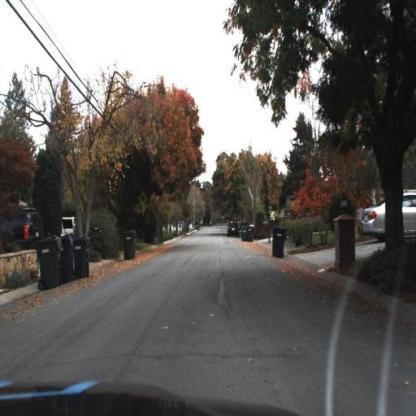car: (363, 188, 415, 242), (1, 201, 43, 255), (224, 217, 242, 242), (62, 218, 77, 235), (226, 221, 240, 238)
